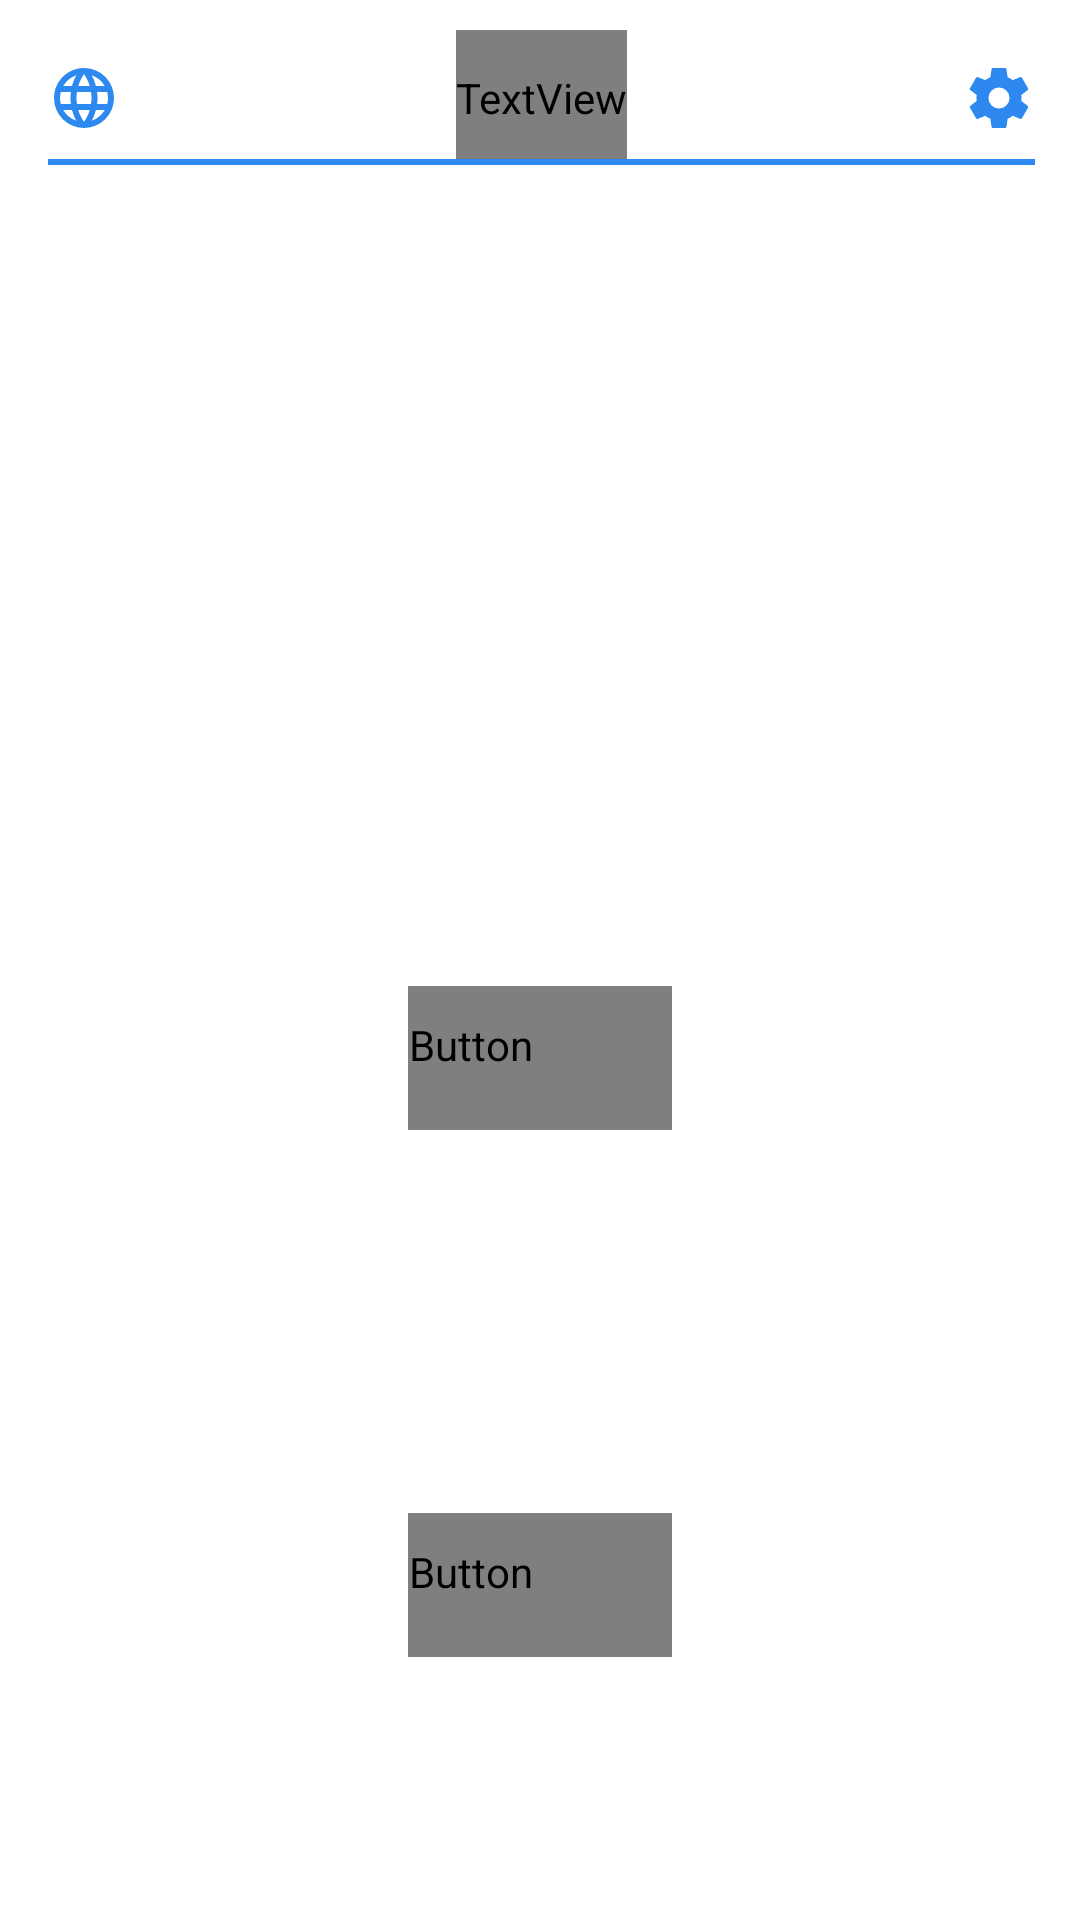

Named icons in this screenshot (1080px x 1920px) and their bounding boxes, detection(x1, y1, x2, y2):
browser: detection(54, 68, 114, 128)
settings: detection(969, 68, 1028, 128)
